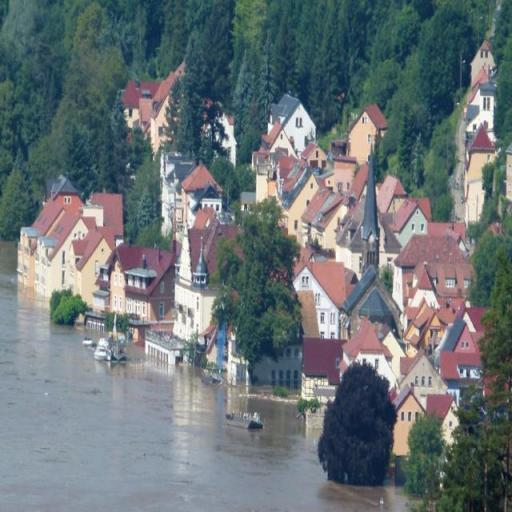flood: (0, 243, 410, 512)
house: (232, 222, 303, 411), (16, 185, 98, 324), (394, 231, 475, 348), (175, 163, 224, 356), (116, 242, 179, 323), (296, 251, 348, 340), (438, 306, 488, 394), (278, 156, 318, 248), (382, 191, 432, 254), (348, 265, 396, 327), (301, 333, 344, 396), (271, 92, 320, 146), (347, 104, 388, 156), (403, 350, 447, 391), (468, 39, 501, 80), (429, 394, 463, 430), (393, 392, 425, 430), (476, 82, 498, 132)
